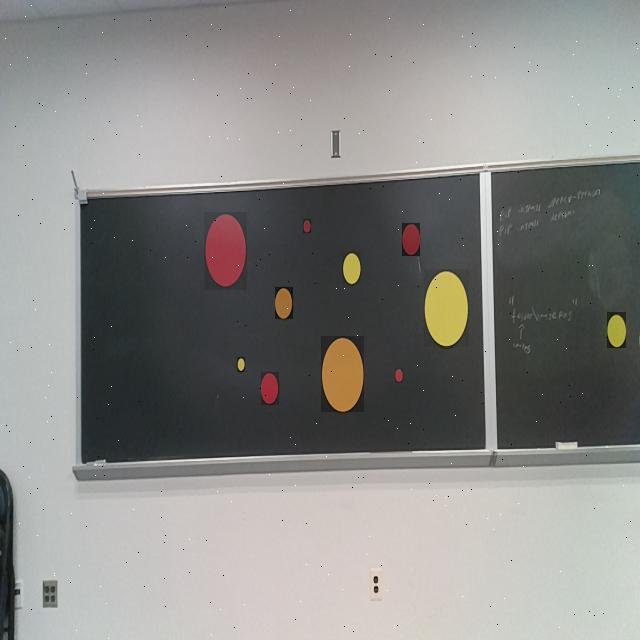Orange: (321, 336, 364, 412), (276, 287, 294, 319)
Red: (204, 212, 247, 290), (262, 372, 280, 405), (402, 223, 420, 256), (395, 368, 403, 383), (303, 219, 311, 233)
Yellow: (424, 270, 469, 348), (607, 312, 626, 348), (342, 252, 361, 284), (237, 357, 245, 372)
